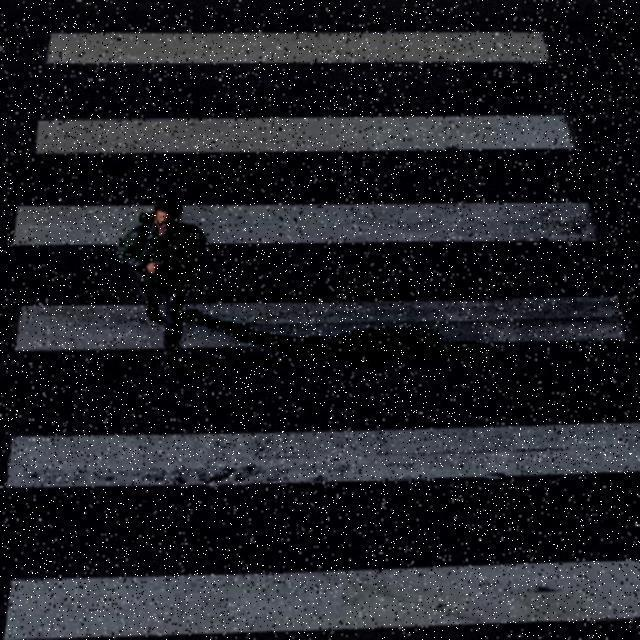Pedestrian crosswalk: (2, 0, 640, 640)
